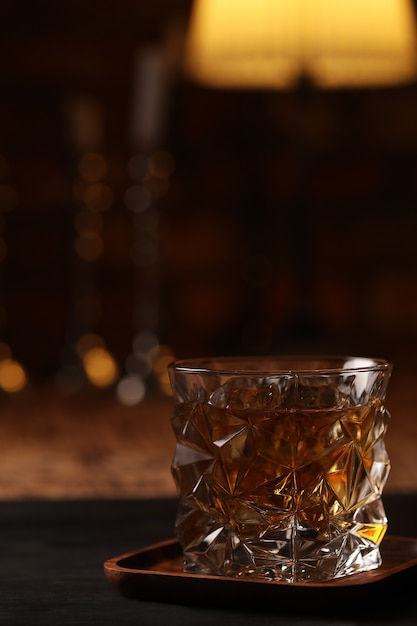alcohol: (167, 352, 400, 584)
